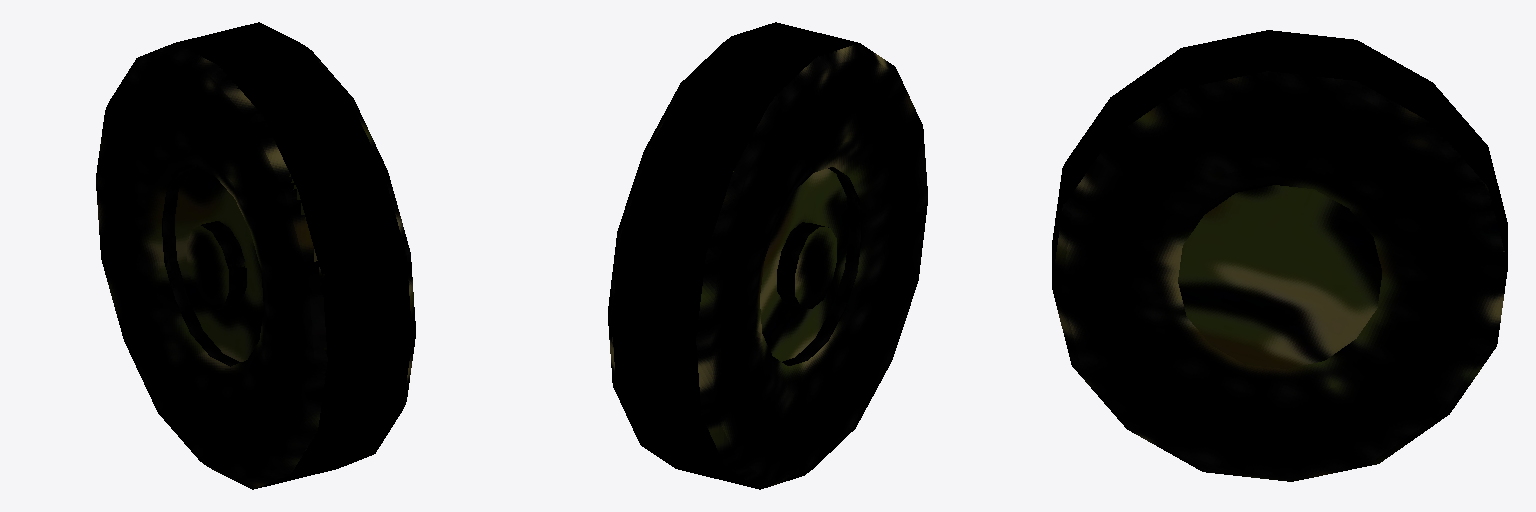
3 renders of one model, left to right at view 1: azimuth 30°, elevation 25°; view 2: azimuth 150°, elevation 25°; view 3: azimuth 270°, elevation 25°, orthographic.
Visible parts, largest first — view 1: Object06.001; view 2: Object06.001; view 3: Object06.001.
Part boxes in pixels (left/top/right/bottom): Object06.001: left=96, top=22, right=415, bottom=489; Object06.001: left=608, top=22, right=927, bottom=489; Object06.001: left=1052, top=30, right=1507, bottom=481.
Bounding box in the file's own units: 0.517 × 1.97 × 1.99.
1 materials, 1 textured.